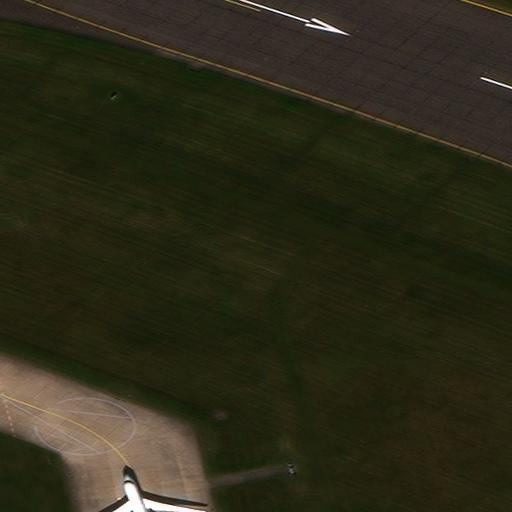Medium Civil Transport: (95, 473, 206, 511)
